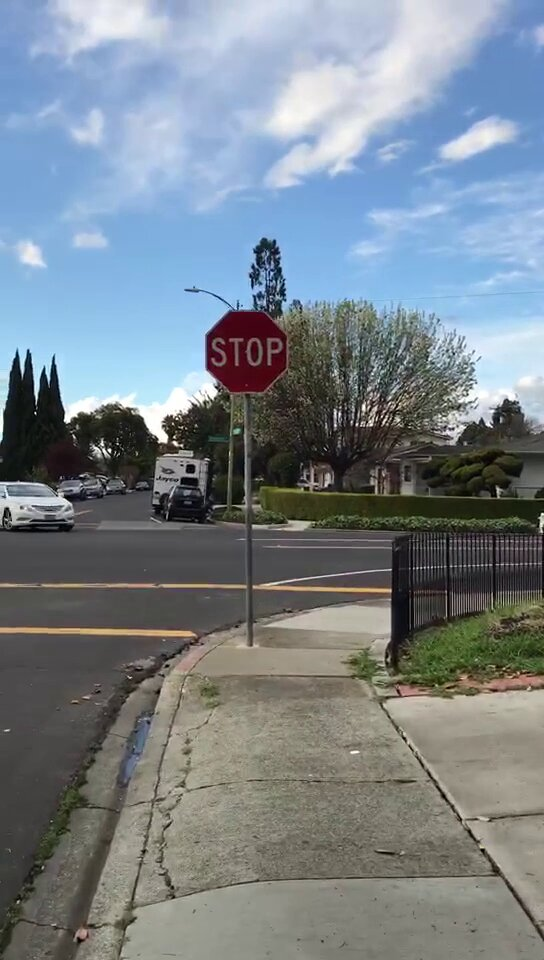stop_sign: (202, 310, 289, 396)
